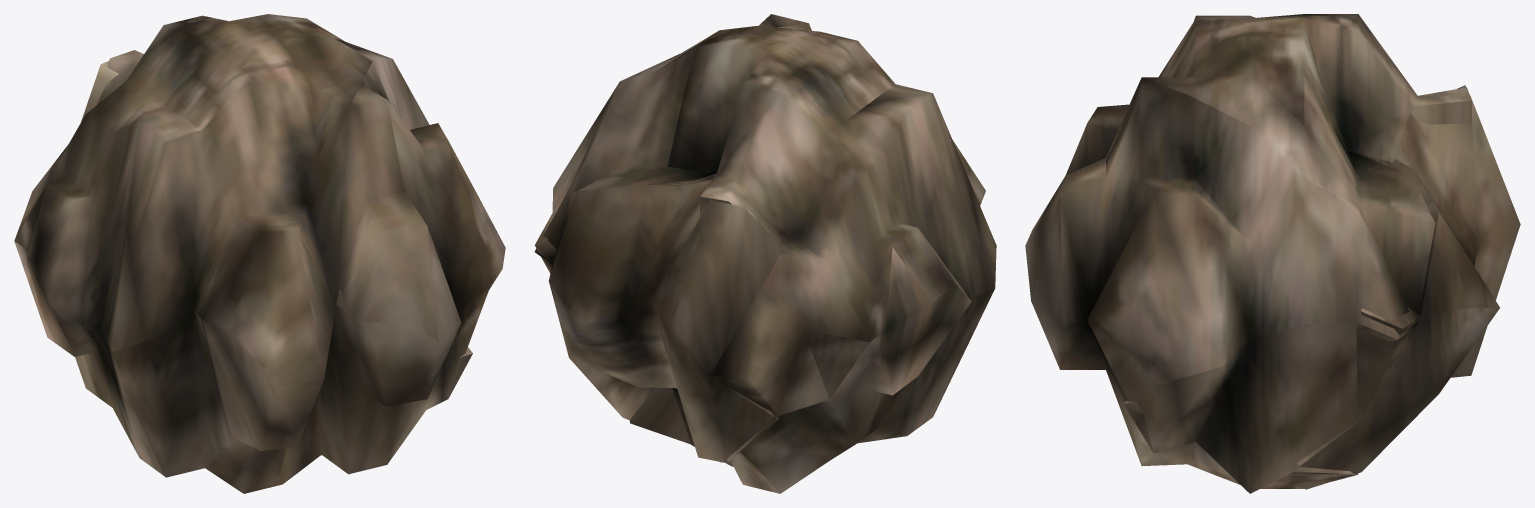
File: BOULDER_01_DESTRUCT.fbx
3 renders of one model, left to right at view 1: azimuth 30°, elevation 25°; view 2: azimuth 150°, elevation 25°; view 3: azimuth 270°, elevation 25°, orthographic. The views are drawn at different scales.
Parts seen in each view (by area): view 1: BOULDER_01_DESTRUCT; view 2: BOULDER_01_DESTRUCT; view 3: BOULDER_01_DESTRUCT.
Boxes of the visible parts, x1=… form: BOULDER_01_DESTRUCT: x1=14, y1=14, x2=505, y2=493; BOULDER_01_DESTRUCT: x1=534, y1=14, x2=996, y2=493; BOULDER_01_DESTRUCT: x1=1025, y1=14, x2=1520, y2=493.
Bounding box in the file's own units: 15304 × 15490 × 15548.
1 material, 1 textured.
